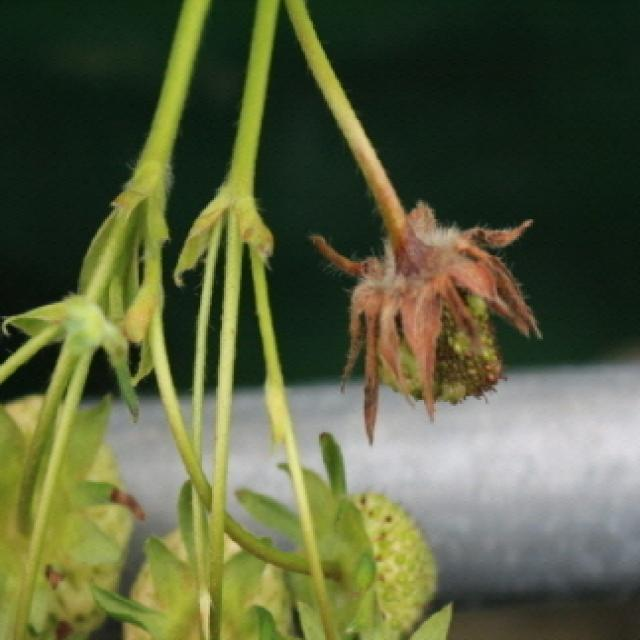Gray Mold: (337, 178, 546, 447)
